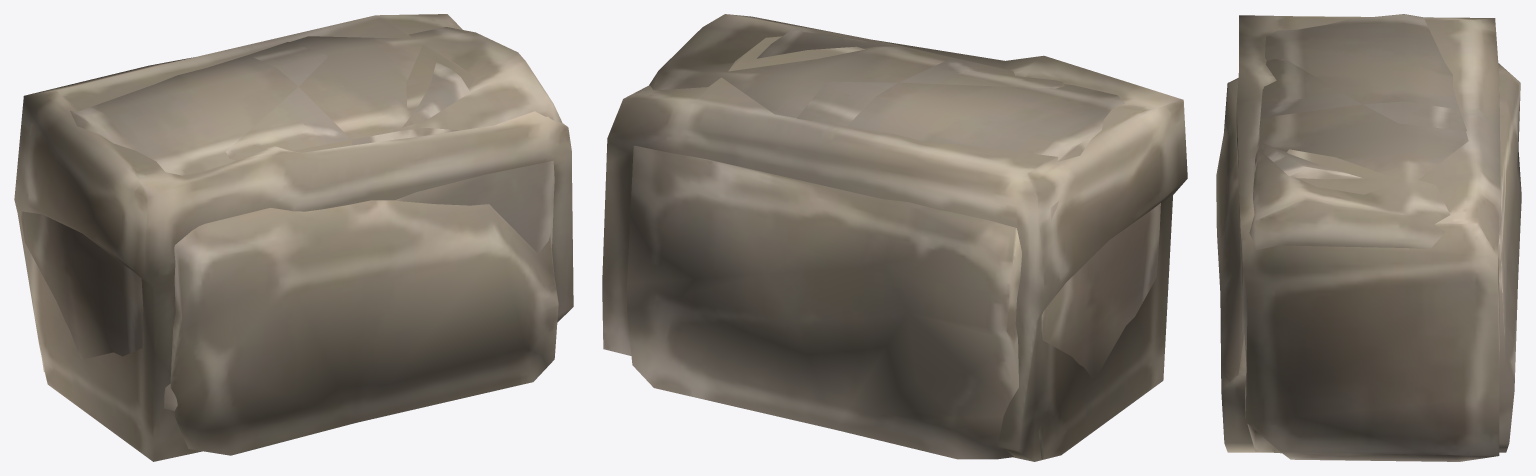
File: props_fuellung_kit.glb
3 views of the same model, side by side, from view 1: azimuth 30°, elevation 25°; view 2: azimuth 150°, elevation 25°; view 3: azimuth 270°, elevation 25° (orthographic). The views are drawn at different scales.
Parts seen in each view (by area): view 1: Mauerrest1, Mauerrest2, Mauerrest3, Mauerrest4; view 2: Mauerrest1, Mauerrest2, Mauerrest3, Mauerrest4; view 3: Mauerrest2, Mauerrest3, Mauerrest1, Mauerrest4.
Part boxes in pixels (left/top/right/bottom): Mauerrest1: left=170, top=200, right=558, bottom=455; Mauerrest2: left=14, top=14, right=573, bottom=461; Mauerrest3: left=21, top=27, right=562, bottom=411; Mauerrest4: left=226, top=42, right=470, bottom=200; Mauerrest1: left=627, top=145, right=1021, bottom=459; Mauerrest2: left=602, top=36, right=1187, bottom=461; Mauerrest3: left=649, top=14, right=1160, bottom=458; Mauerrest4: left=757, top=30, right=1064, bottom=126; Mauerrest2: left=1236, top=15, right=1500, bottom=461; Mauerrest3: left=1239, top=14, right=1468, bottom=453; Mauerrest1: left=1216, top=63, right=1521, bottom=452; Mauerrest4: left=1254, top=59, right=1466, bottom=179.
Size of the model in its own units: 0.3954 by 0.2497 by 0.2502.
Materials: 1 (1 with a texture image).
